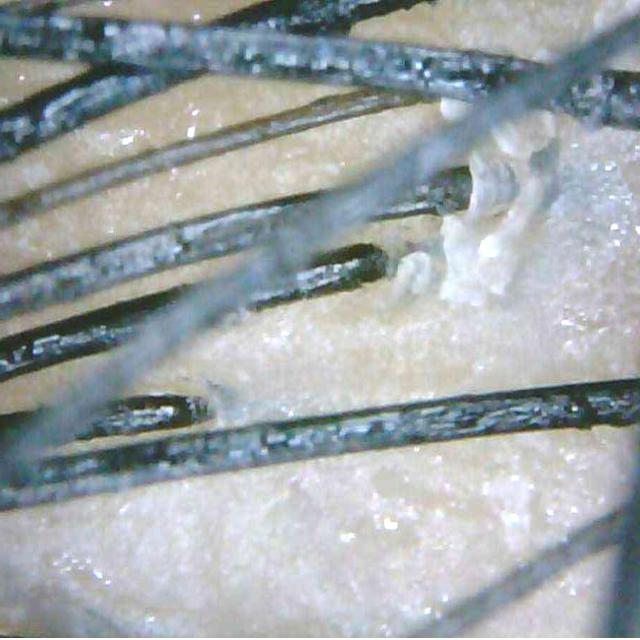d: (440, 111, 559, 304), (395, 251, 432, 297)
